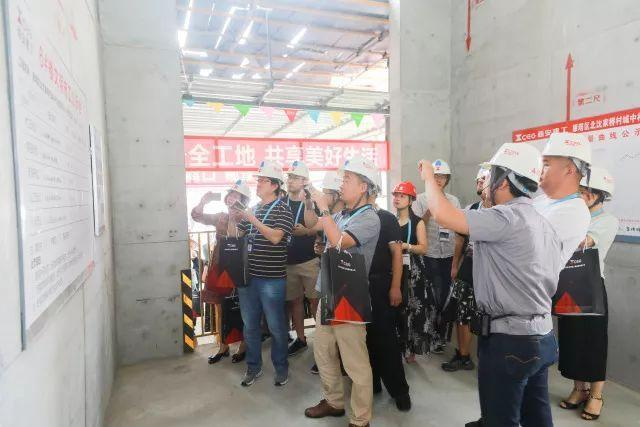helmet: (488, 146, 544, 187), (343, 155, 386, 197), (543, 134, 595, 163), (577, 169, 619, 204), (252, 161, 287, 186), (285, 157, 315, 186), (318, 167, 345, 194), (226, 179, 253, 201), (393, 181, 419, 198), (434, 160, 452, 177)
